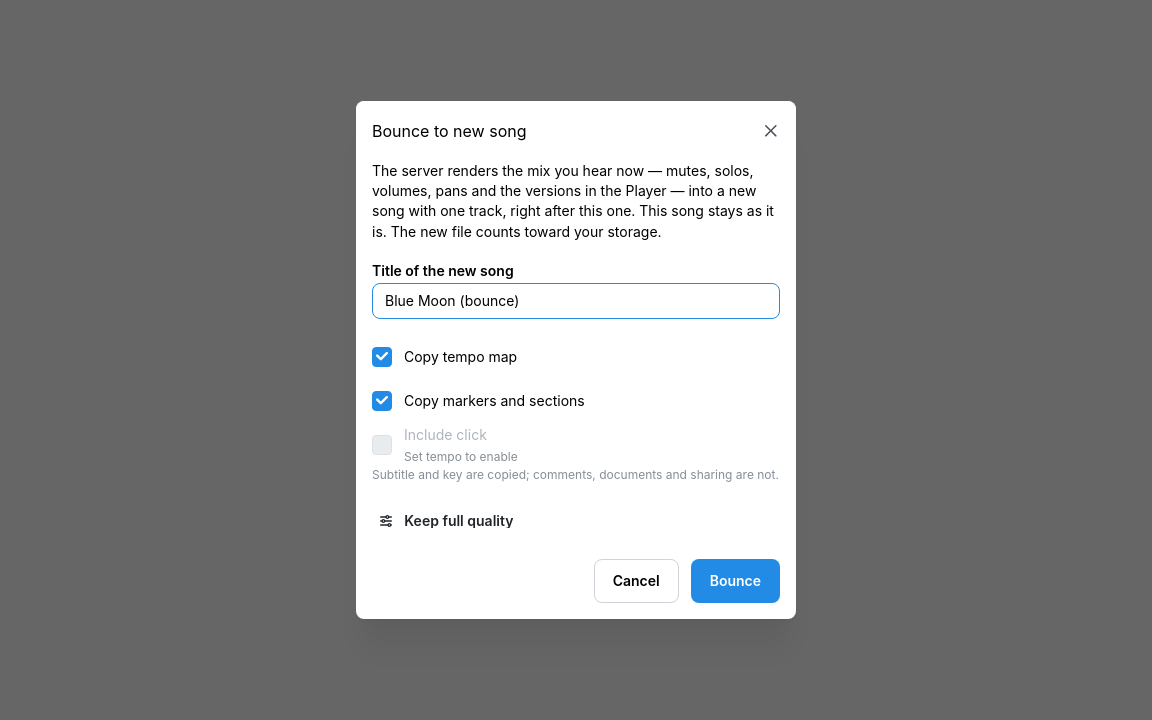
Test case: BounceModal (SPEC §5.5) › shows the server's reason and needs a title
This screenshot has width=1152, height=720.
Clear the field with test id "bounce-title": (576, 301) [372,283,780,319]
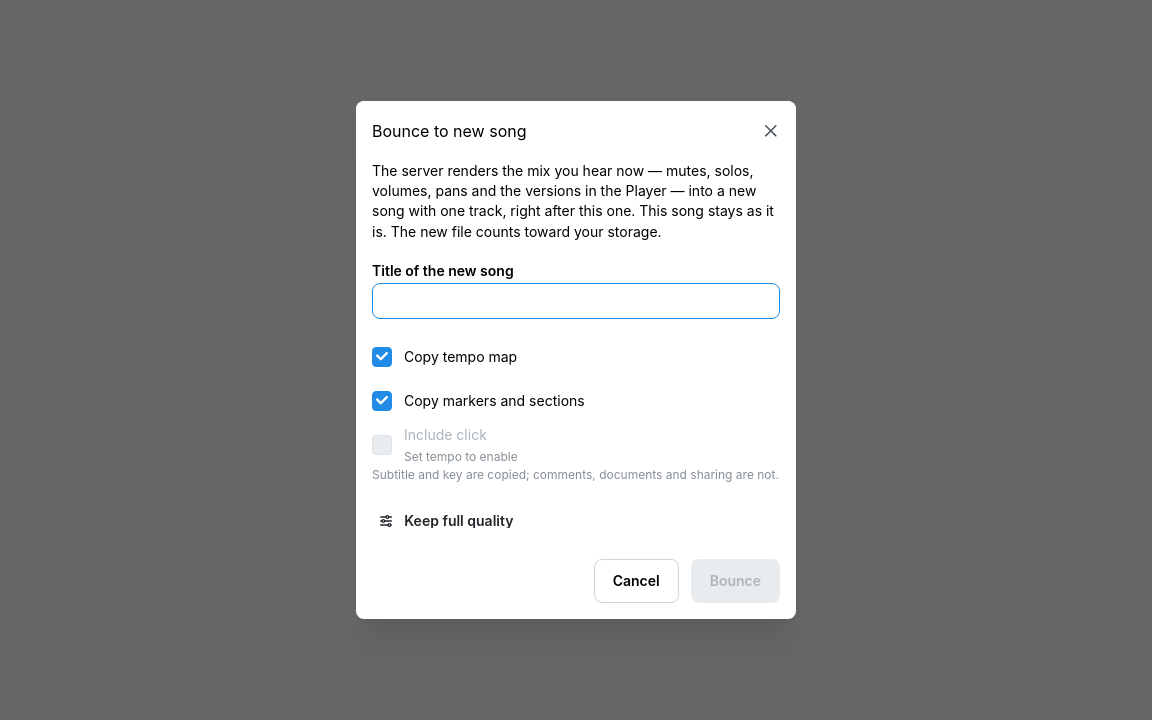
Result: the button with test id "bounce-submit" is disabled at [691,559,780,603]
In the field with test id "bounce-title": (576, 301) [372,283,780,319], type "Take"
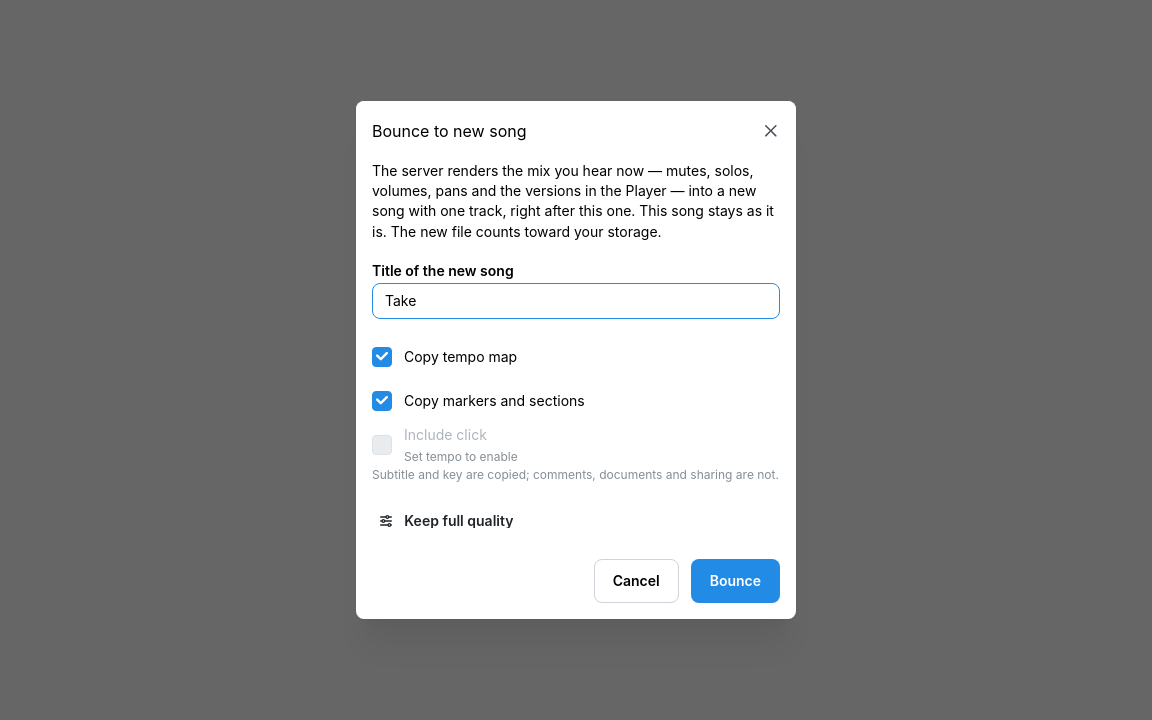
Click the button with test id "bounce-submit": (735, 581) [691,559,780,603]
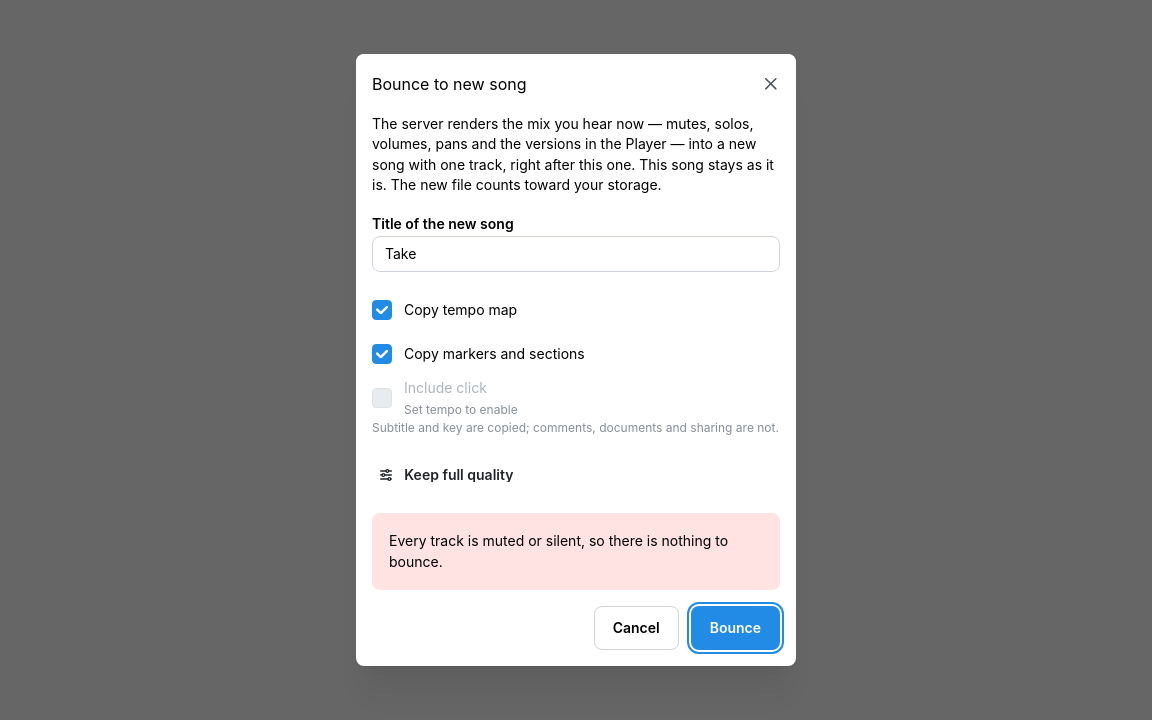
Result: the text "Every track is muted or silent, so there is nothing to bounce." is shown at [389,530,763,573]
